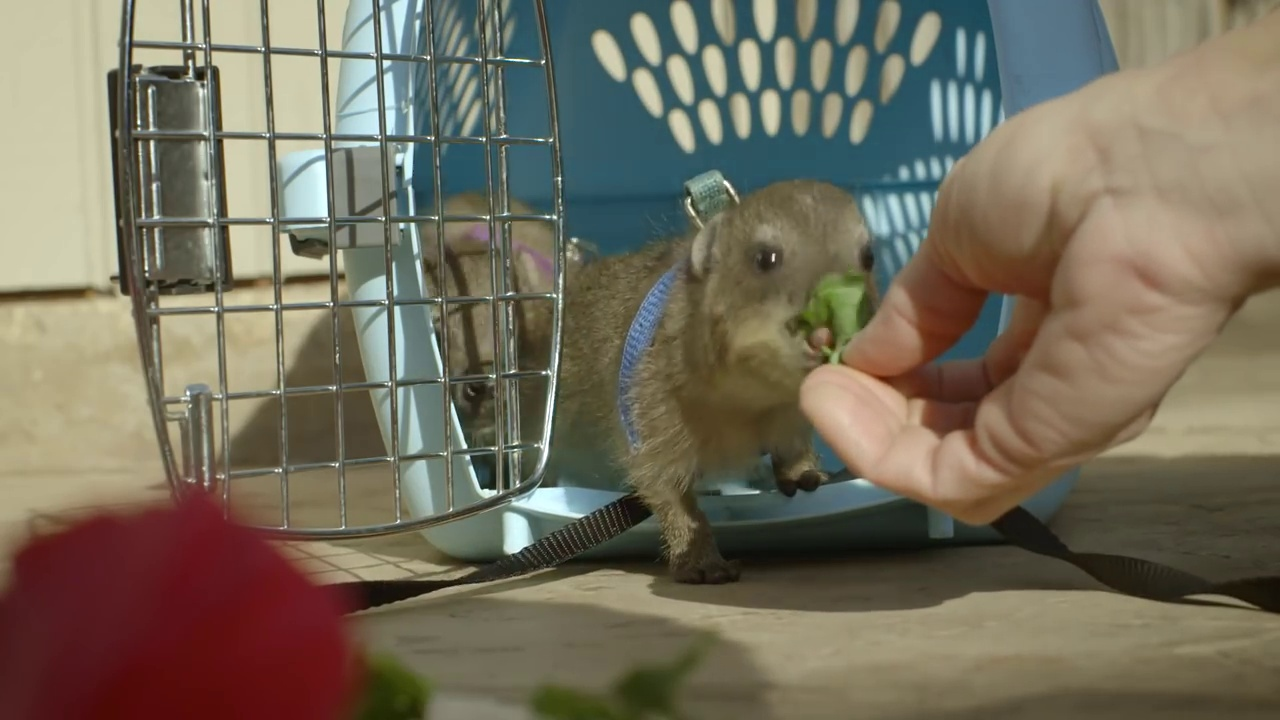Rock Hyrex: (571, 180, 877, 596), (400, 181, 581, 518)
